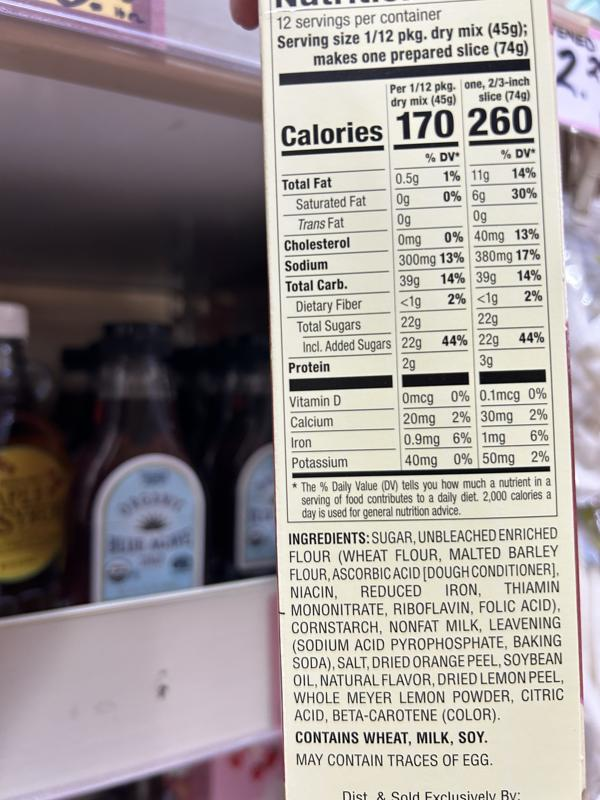ingredients: (285, 523, 569, 725)
